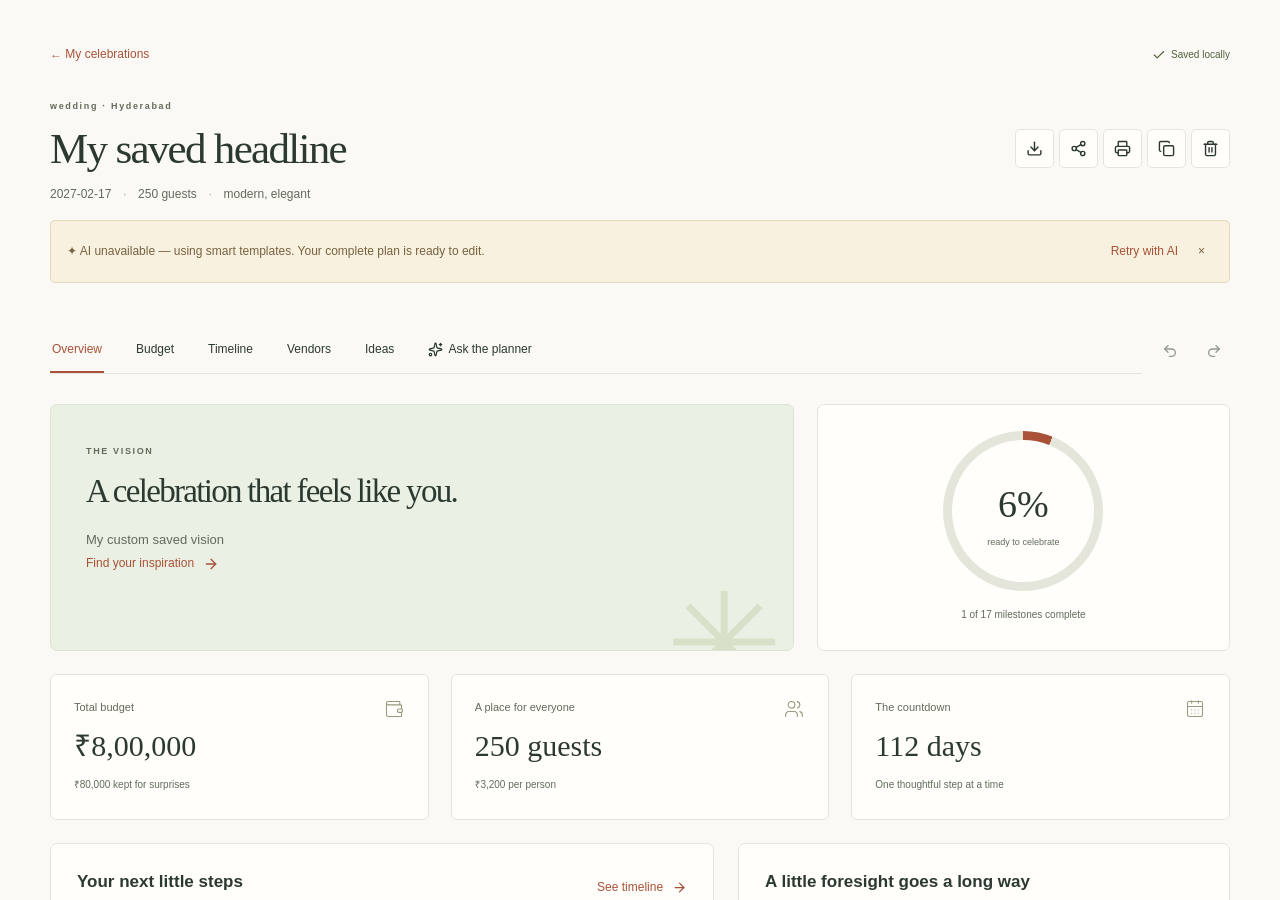
Test case: keeps a custom imported summary and all saved edits when retry falls back
The width and height of the screenshot is (1280, 900).
Click the button "Retry with AI".
click(1144, 251)  # box [1111,241,1178,262]
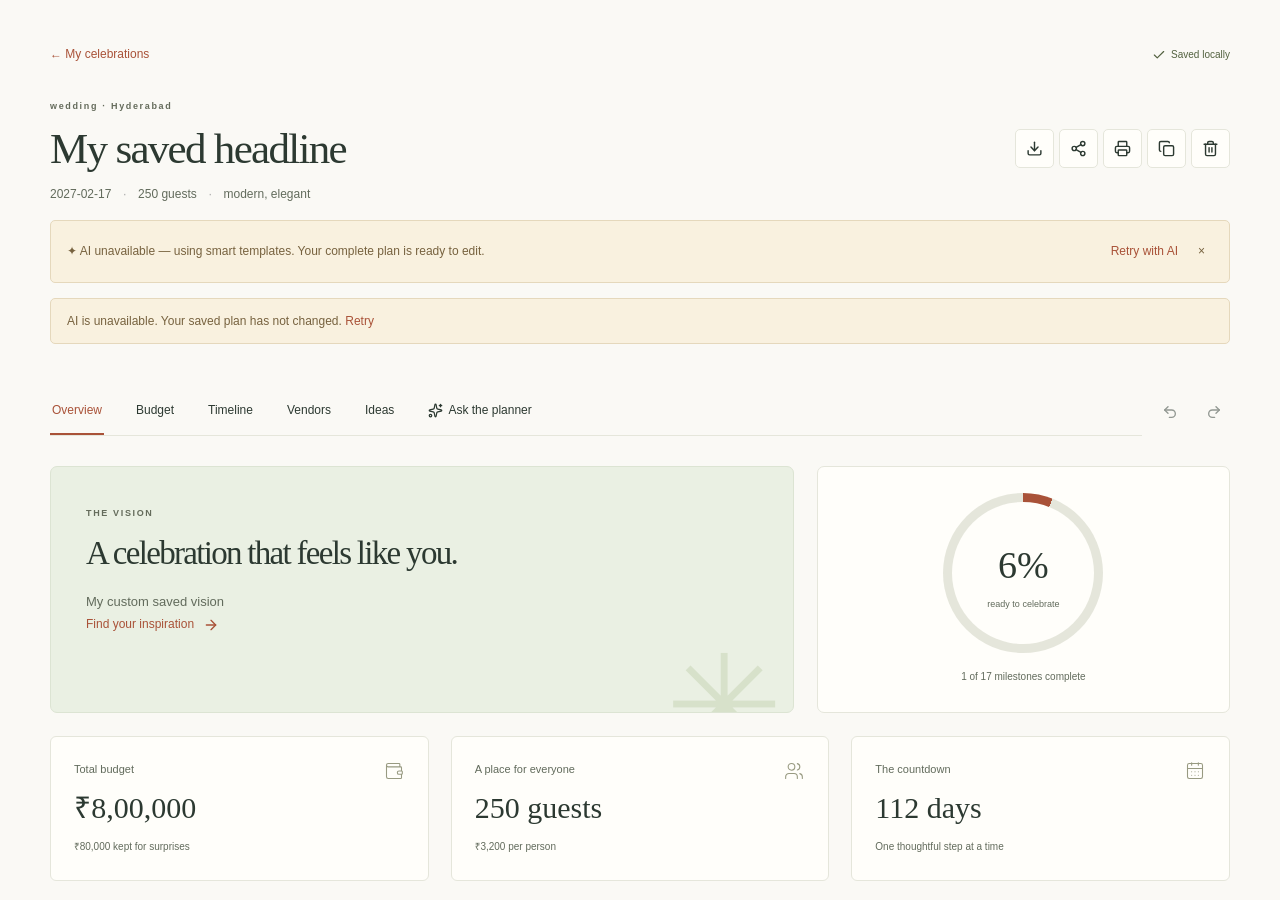
expect the message reads "AI is unavailable. Your saved plan has not changed. Retry": met, box [67,314,342,328]
